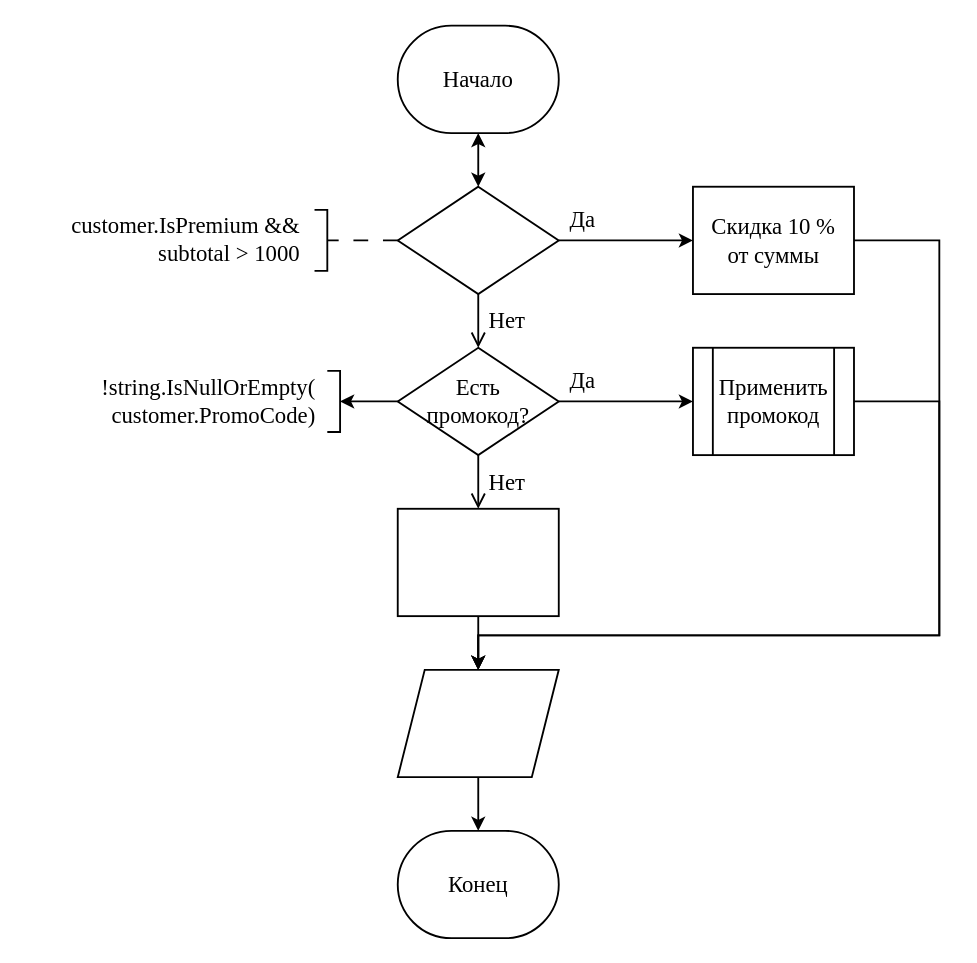
The diagram is 977 pixels wide and 963 high, and some of its shapes have lost their labels. The centre of each missing label's shape, as x and y in pixels:
"Вернуть скидку" goes at point (477, 722).
"Премиум и > 1000?" goes at point (477, 239).
"Скидка = 0" goes at point (477, 561).
